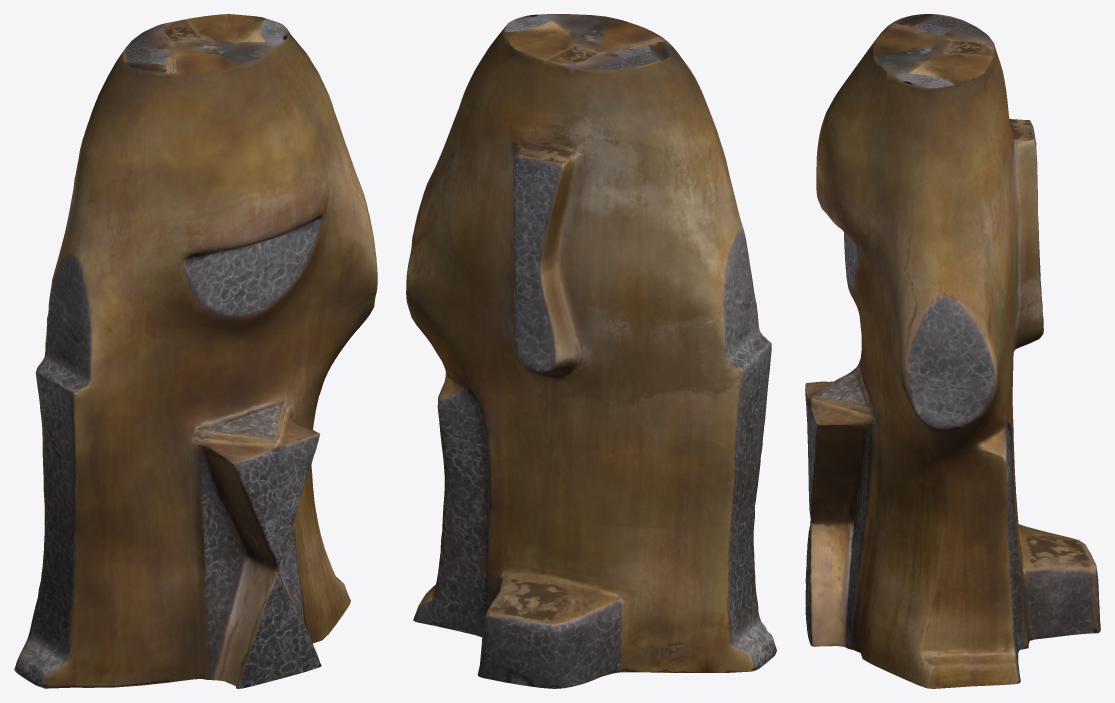
File: shah-tirthankar.glb
3 views of the same model, side by side, from view 1: azimuth 30°, elevation 25°; view 2: azimuth 150°, elevation 25°; view 3: azimuth 270°, elevation 25° (orthographic). The views are drawn at different scales.
Parts seen in each view (by area): view 1: SculptureA_Low; view 2: SculptureA_Low; view 3: SculptureA_Low.
Boxes of the visible parts, left/top/right/bottom form: SculptureA_Low: left=14, top=14, right=377, bottom=688; SculptureA_Low: left=406, top=14, right=776, bottom=688; SculptureA_Low: left=805, top=14, right=1100, bottom=688.
Size of the model in its own units: 0.3039 by 0.5 by 0.235.
Materials: 1 (1 with a texture image).
